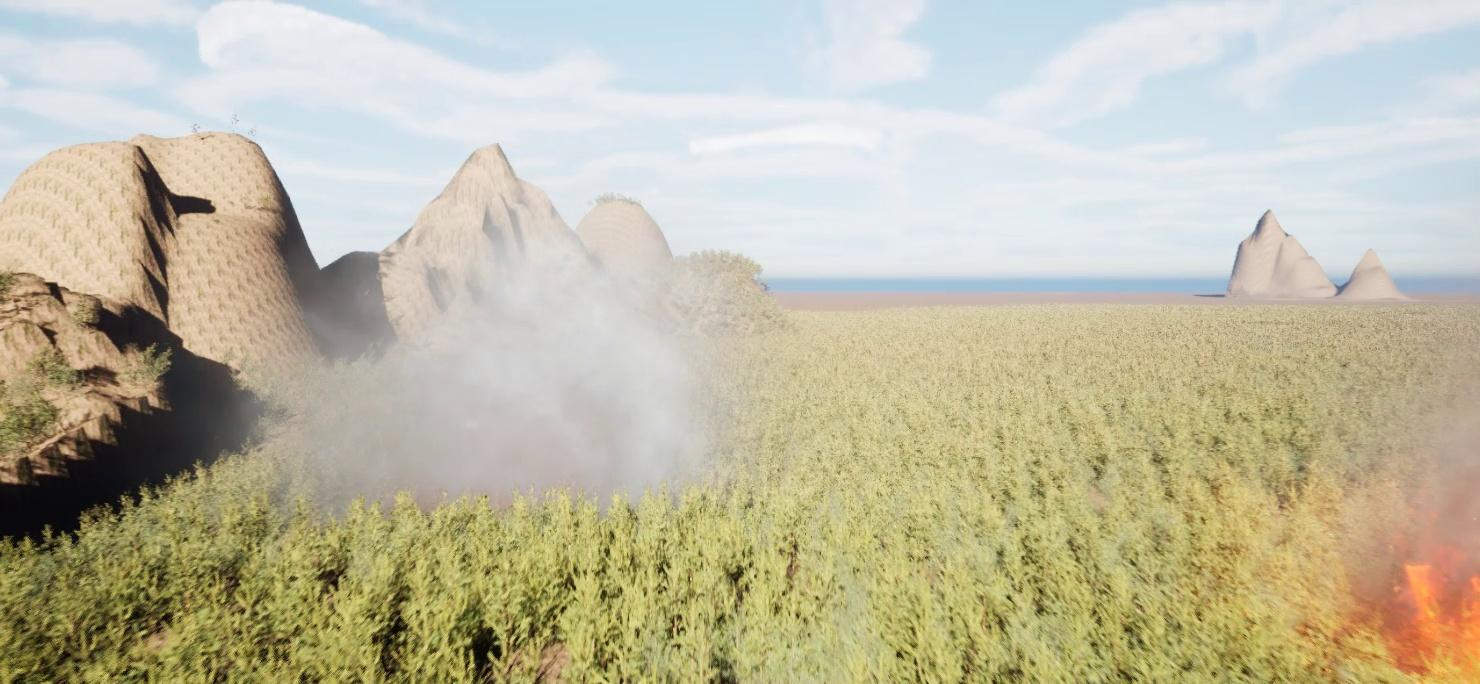fire: (1381, 553, 1479, 655)
smoke: (254, 241, 706, 517), (1330, 385, 1479, 661)
